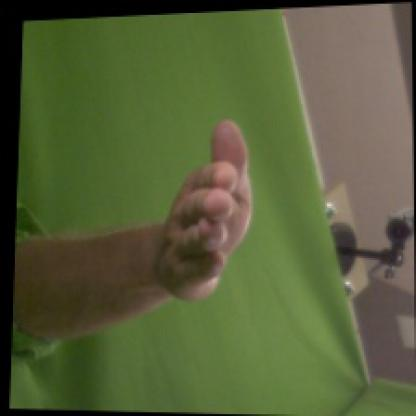Hand: (155, 120, 252, 303)
